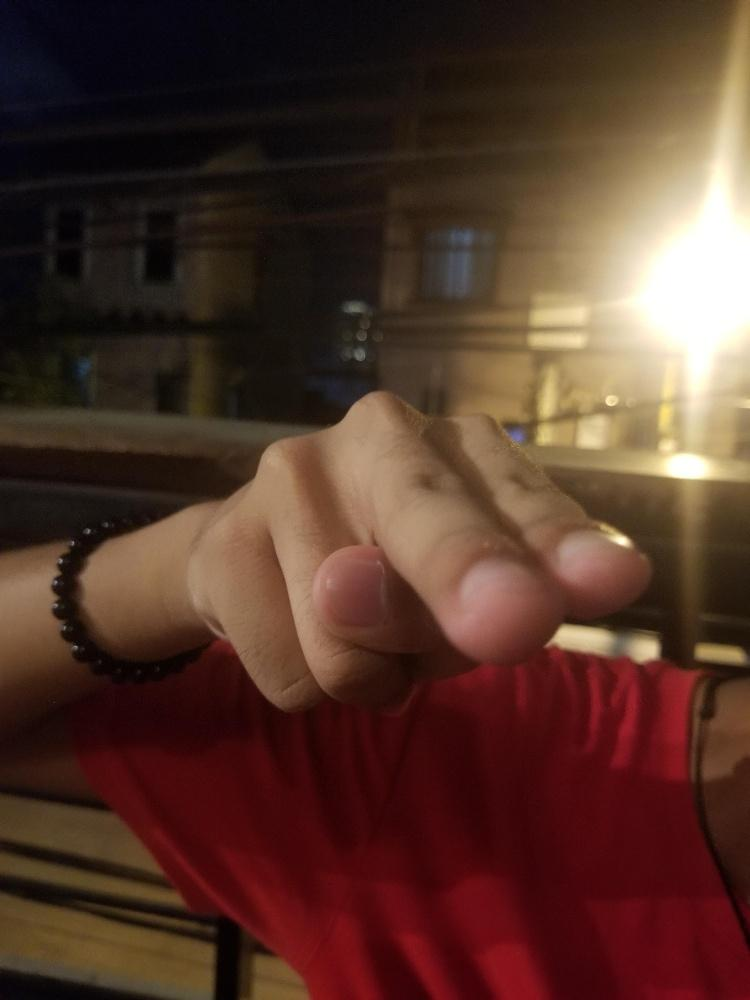n: (187, 391, 652, 720)
